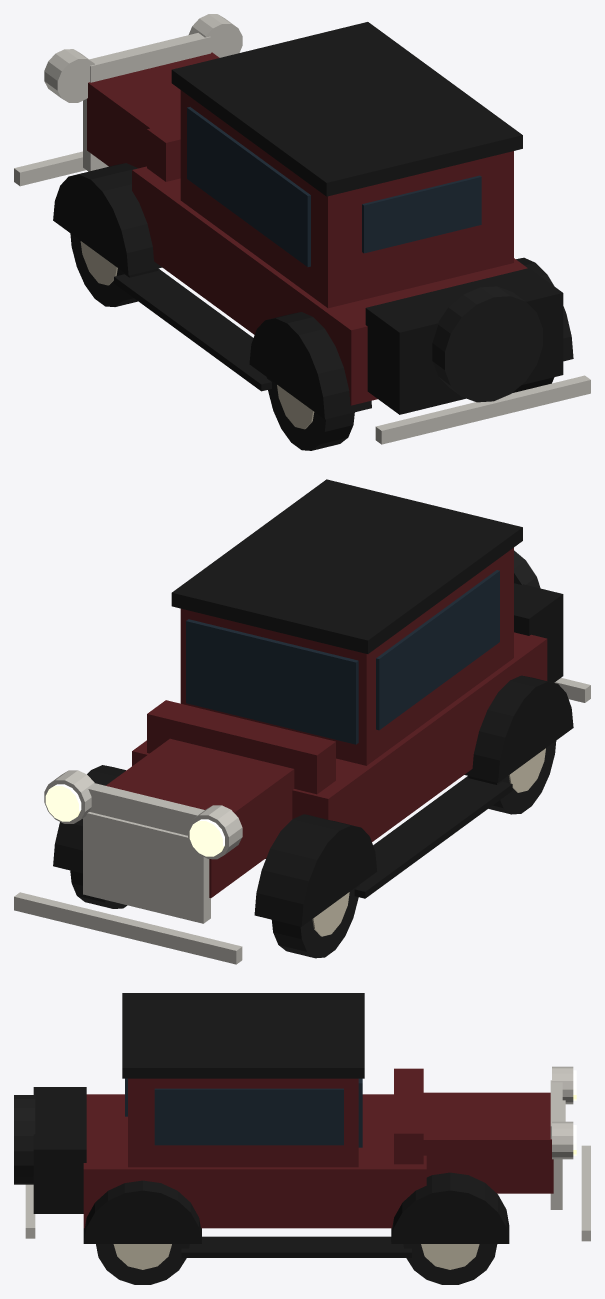
Rendered from car_sedan_maroon.glb.
The picture shows the model from 3 angles, top to bottom: view 1: azimuth 30°, elevation 25°; view 2: azimuth 150°, elevation 25°; view 3: azimuth 270°, elevation 25°; orthographic projection. The views are drawn at different scales.
Parts seen in each view (by area): view 1: lower; view 2: lower; view 3: lower.
Part boxes in pixels (x1,y1,x2,y2): lower: (14, 14, 590, 450); lower: (14, 479, 590, 964); lower: (14, 993, 590, 1284).
Size of the model in its own units: 1.92 by 1.96 by 4.88.
